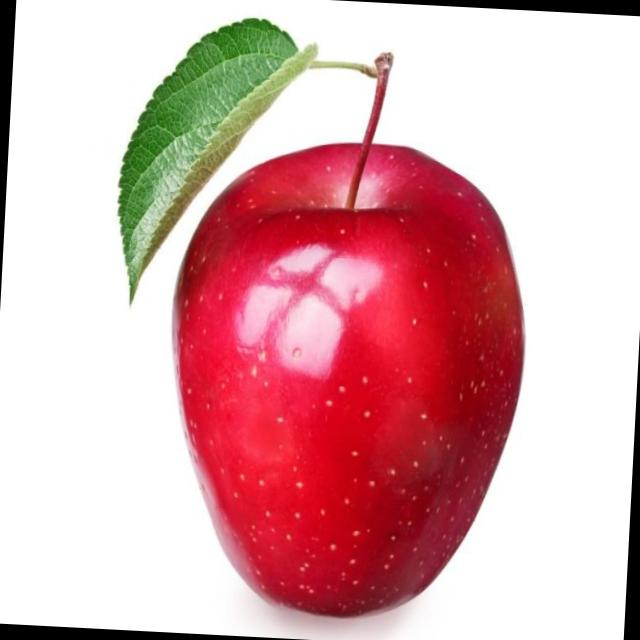Apel: (155, 40, 541, 627)
